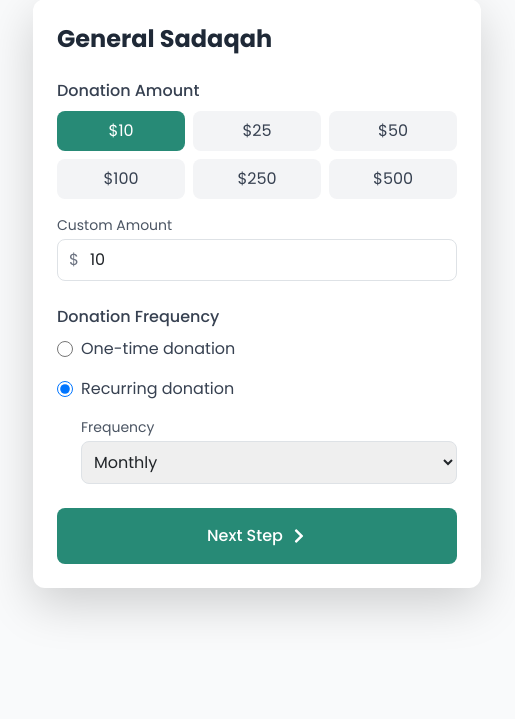
Test case: SadaqahDonateForm › allows going back from second step to first step
// Go to second step
Click the button "Next Step" at x=257, y=536, box [57,508,457,564]
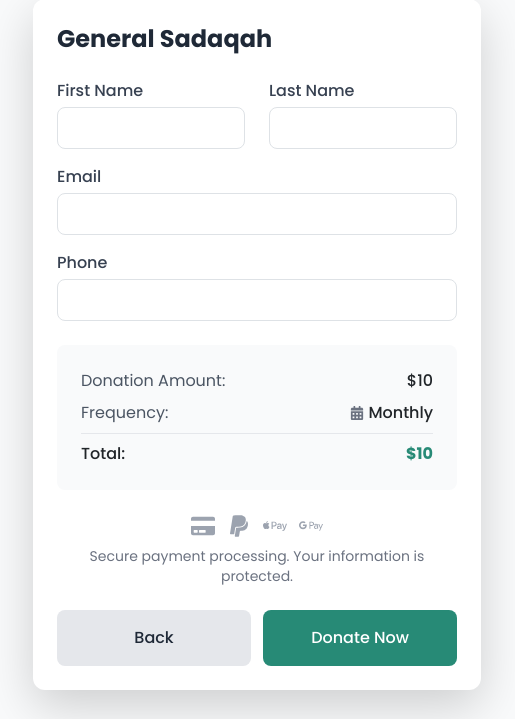
// Go back to first step
Click the button "Back" at x=154, y=638, box [57,610,251,666]
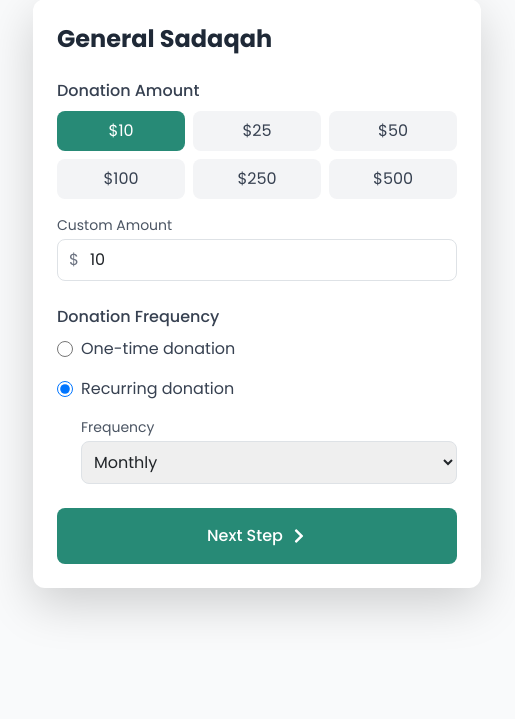
expect the button "Next Step" is shown: met, box [57,508,457,564]
